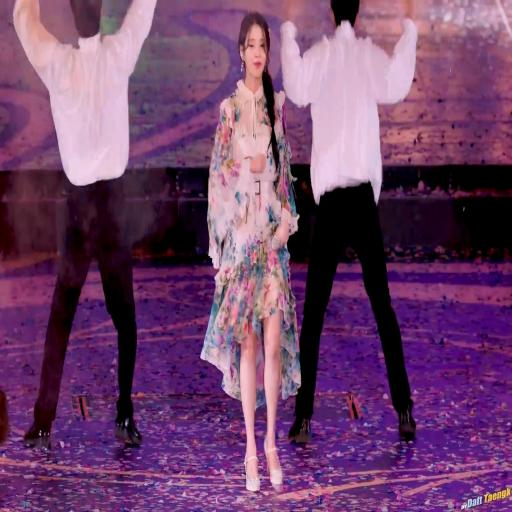IU: (239, 11, 270, 79)
